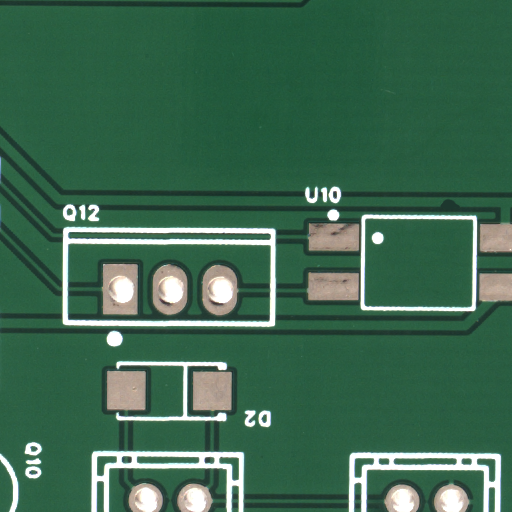Mouse_bite: (450, 204, 471, 215)
